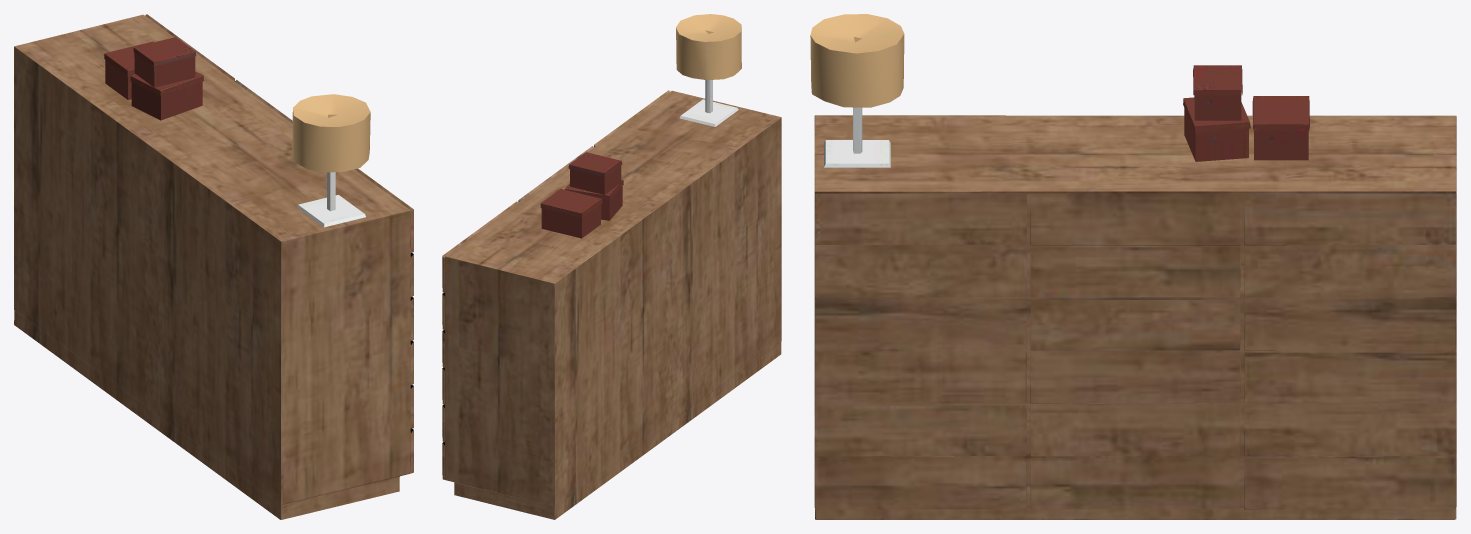
Rendered from Cupboard0009.obj.
The picture shows the model from 3 angles, left to right: view 1: azimuth 30°, elevation 25°; view 2: azimuth 150°, elevation 25°; view 3: azimuth 270°, elevation 25°; orthographic projection. The views are drawn at different scales.
Size of the model in its own units: 0.498 by 1.36 by 1.75.
Materials: 1 (1 with a texture image).
